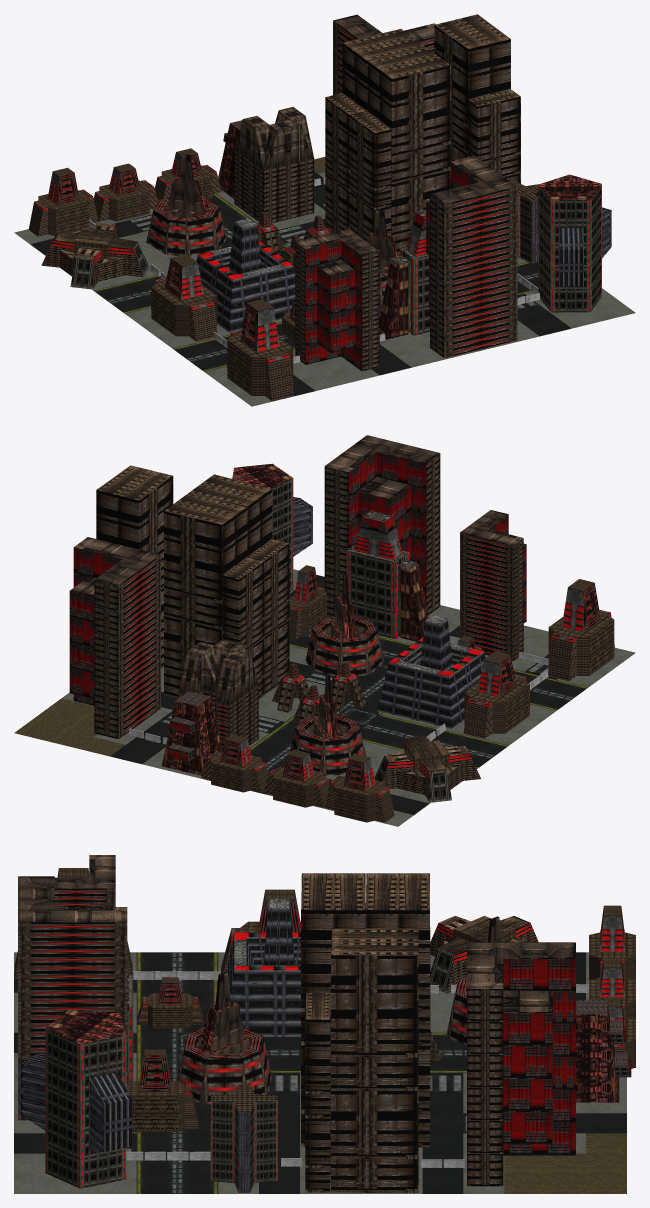
File: CyberCity_v02.fbx
3 renders of one model, top to bottom at view 1: azimuth 30°, elevation 25°; view 2: azimuth 150°, elevation 25°; view 3: azimuth 270°, elevation 25°, orthographic. The views are drawn at different scales.
Visible parts, largest first — view 1: Building_004:Building_004, Ground_Plane:Ground_Plane, Building_028, Building_006:Building_006, Building_024, Building_005:Building_005, Building_007:Building_007, Building_010:Building_010, Building_022, Building_008:Building_008, Building_021, Building_016:Building_016 (+8 smaller); view 2: Ground_Plane:Ground_Plane, Building_004:Building_004, Building_003:Building_003, Building_022, Building_006:Building_006, Building_010:Building_010, Building_028, Building_024, Building_007:Building_007, Building_008:Building_008, Building_016:Building_016, Building_026 (+10 smaller); view 3: Ground_Plane:Ground_Plane, Building_024, Building_003:Building_003, Building_005:Building_005, Building_004:Building_004, Building_010:Building_010, Building_026, Building_022, Building_028, Building_012:Building_012, Building_011:Building_011, Building_017:Building_017 (+9 smaller).
Part boxes in pixels (<box>): Building_004:Building_004: <box>379,156,517,357</box>; Ground_Plane:Ground_Plane: <box>14,157,635,406</box>; Building_028: <box>350,47,450,253</box>; Building_006:Building_006: <box>295,228,379,371</box>; Building_024: <box>434,14,520,183</box>; Building_005:Building_005: <box>538,174,611,312</box>; Building_007:Building_007: <box>234,107,314,223</box>; Building_010:Building_010: <box>196,218,295,332</box>; Building_022: <box>325,29,425,232</box>; Building_008:Building_008: <box>226,299,293,401</box>; Building_021: <box>146,154,226,256</box>; Building_016:Building_016: <box>41,223,149,289</box>; Ground_Plane:Ground_Plane: <box>14,569,635,826</box>; Building_004:Building_004: <box>324,435,440,641</box>; Building_003:Building_003: <box>69,537,160,739</box>; Building_022: <box>164,492,264,699</box>; Building_006:Building_006: <box>460,510,526,661</box>; Building_010:Building_010: <box>377,615,485,729</box>; Building_028: <box>189,474,289,694</box>; Building_024: <box>96,465,173,668</box>; Building_007:Building_007: <box>178,639,258,750</box>; Building_008:Building_008: <box>548,579,614,681</box>; Building_016:Building_016: <box>374,736,480,802</box>; Building_026: <box>305,573,384,676</box>; Ground_Plane:Ground_Plane: <box>14,952,626,1193</box>; Building_024: <box>305,928,418,1192</box>; Building_003:Building_003: <box>467,942,575,1186</box>; Building_005:Building_005: <box>18,1009,132,1188</box>; Building_004:Building_004: <box>18,876,133,1120</box>; Building_010:Building_010: <box>226,899,300,1036</box>; Building_026: <box>177,972,271,1104</box>; Building_022: <box>365,873,430,1147</box>; Building_028: <box>301,873,365,1147</box>; Building_012:Building_012: <box>210,1083,277,1192</box>; Building_011:Building_011: <box>576,1000,631,1102</box>; Building_017:Building_017: <box>126,1049,198,1132</box>.
Size of the model in its own units: 8383 by 3620 by 8583.
Materials: 23 (23 with a texture image).
